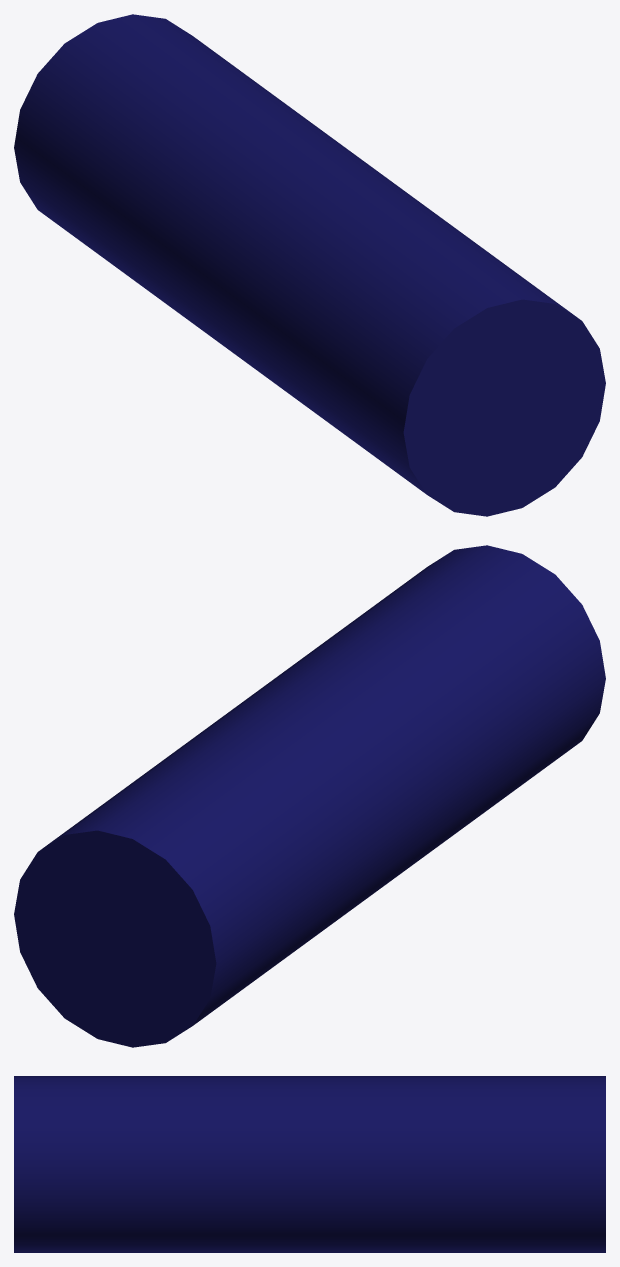
The model's file is laserBolt.obj.
3 renders of one model, top to bottom at view 1: azimuth 30°, elevation 25°; view 2: azimuth 150°, elevation 25°; view 3: azimuth 270°, elevation 25°, orthographic. The views are drawn at different scales.
Visible parts, largest first — view 1: Cylinder001; view 2: Cylinder001; view 3: Cylinder001.
Part boxes in pixels (x1,y1,x2,y2): Cylinder001: [14, 14, 605, 516]; Cylinder001: [14, 545, 605, 1047]; Cylinder001: [14, 1076, 605, 1252].
Bounding box in the file's own units: 0.3 × 0.2954 × 1.
